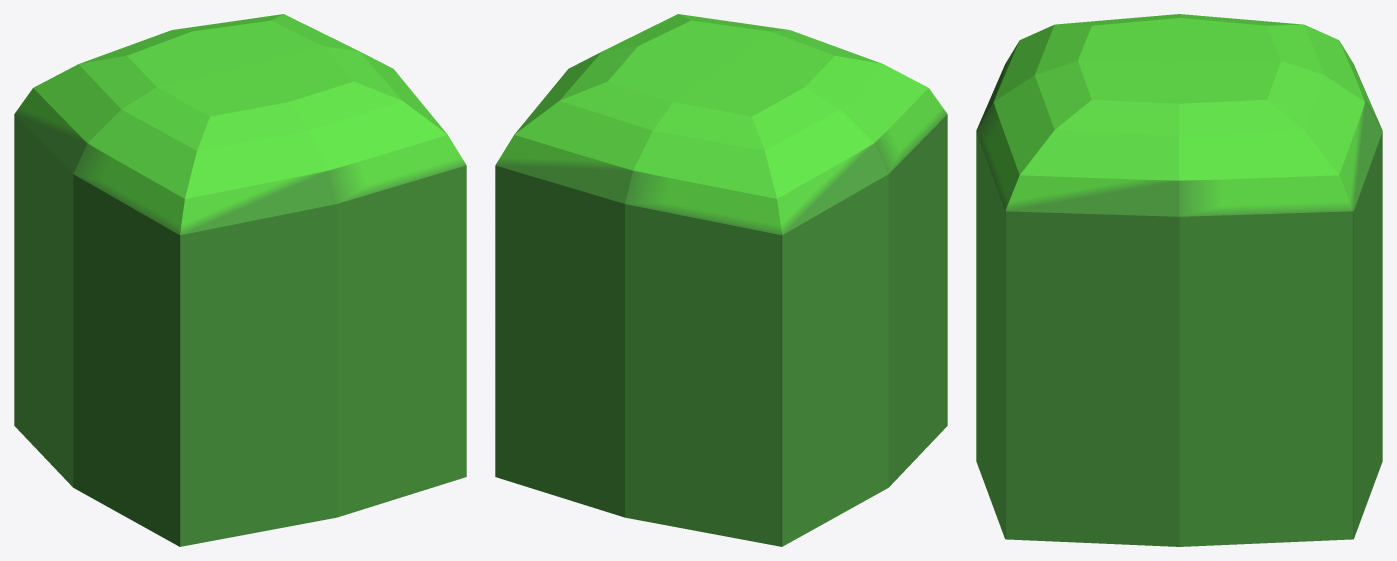
Rendered from OBJETIVO_BULBO.glb.
3 renders of one model, left to right at view 1: azimuth 30°, elevation 25°; view 2: azimuth 150°, elevation 25°; view 3: azimuth 270°, elevation 25°, orthographic. The views are drawn at different scales.
Parts seen in each view (by area): view 1: OBJETIVO_Cubo_BULBO; view 2: OBJETIVO_Cubo_BULBO; view 3: OBJETIVO_Cubo_BULBO.
Boxes of the visible parts, bbox=[...] form: OBJETIVO_Cubo_BULBO: bbox=[14, 14, 466, 546]; OBJETIVO_Cubo_BULBO: bbox=[495, 14, 947, 546]; OBJETIVO_Cubo_BULBO: bbox=[976, 14, 1382, 546].
Bounding box in the file's own units: 0.0388 × 0.0426 × 0.0388.
1 material, 1 textured.
